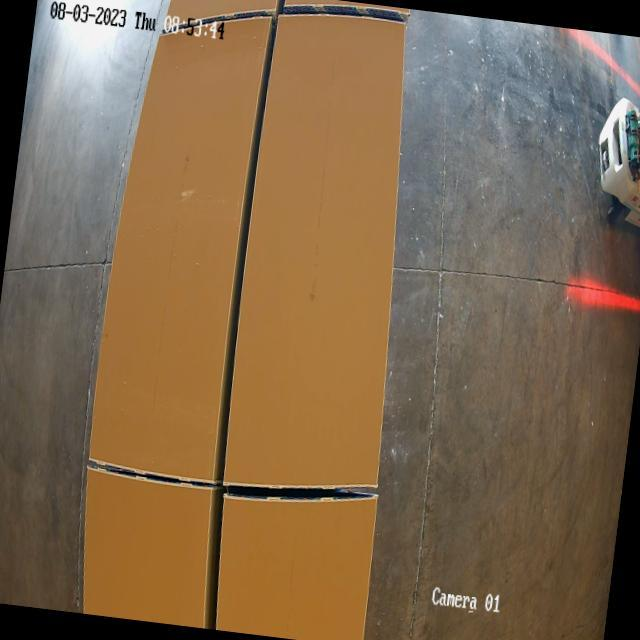forklift: (589, 75, 640, 238)
